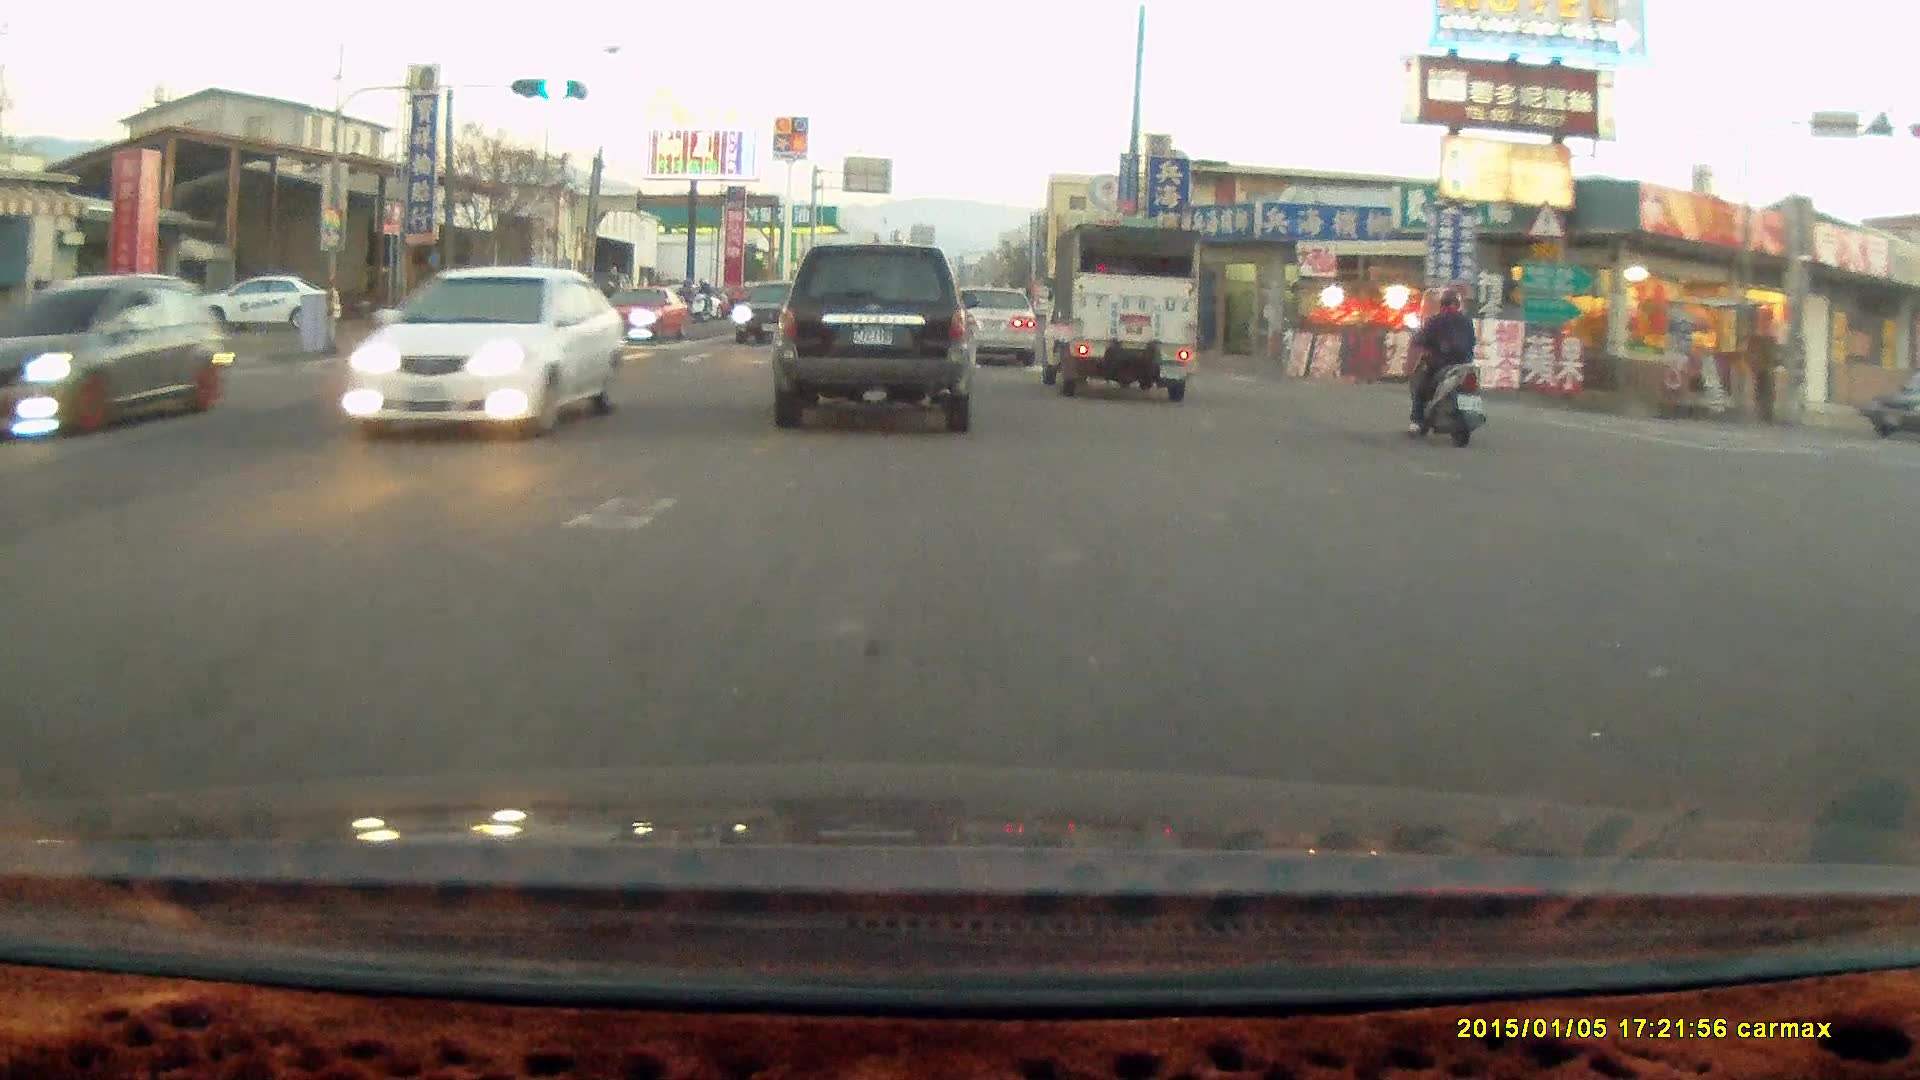rider: (1400, 286, 1487, 446), (687, 280, 714, 326)
vehicle: (354, 270, 626, 431), (1, 275, 237, 444), (769, 242, 977, 432), (1035, 220, 1203, 400), (419, 285, 577, 385), (940, 283, 1035, 366), (196, 279, 337, 331), (950, 287, 1037, 367), (732, 280, 828, 349), (596, 285, 690, 345), (1859, 355, 1920, 442)
